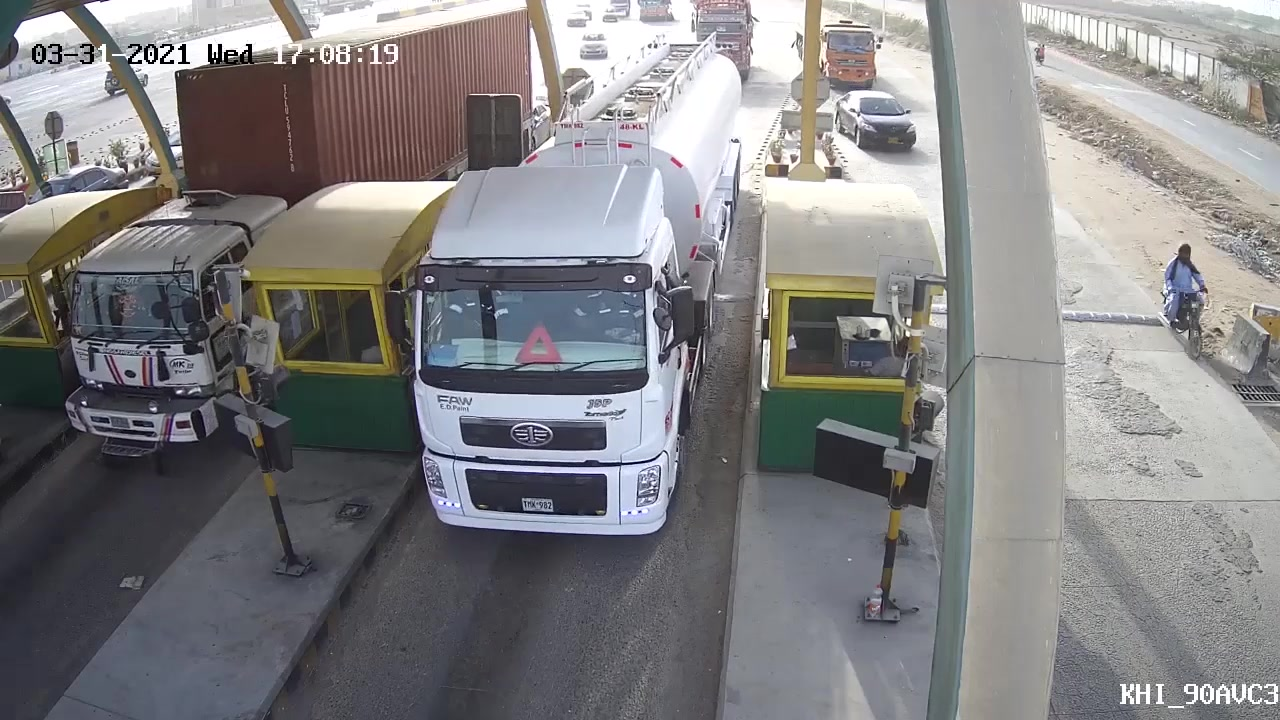F5: (381, 35, 742, 553)
